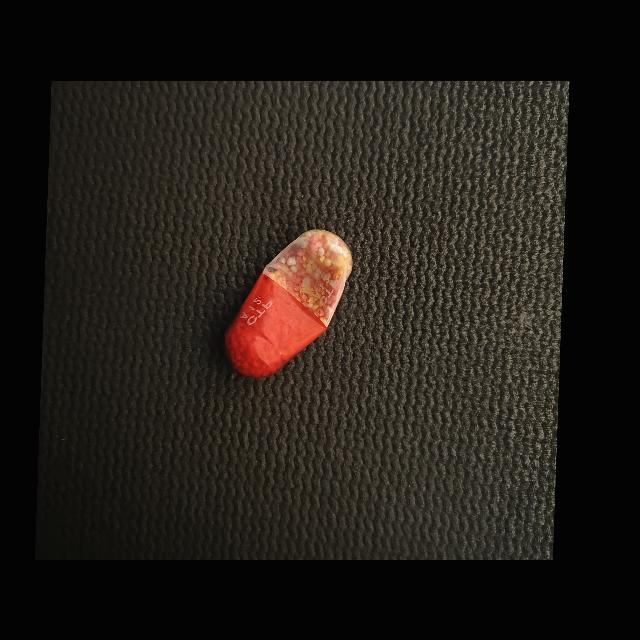Defective Capsule: (225, 229, 353, 378)
